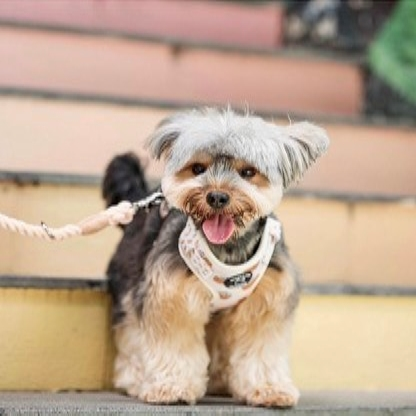yorkshire: (102, 100, 332, 416)
